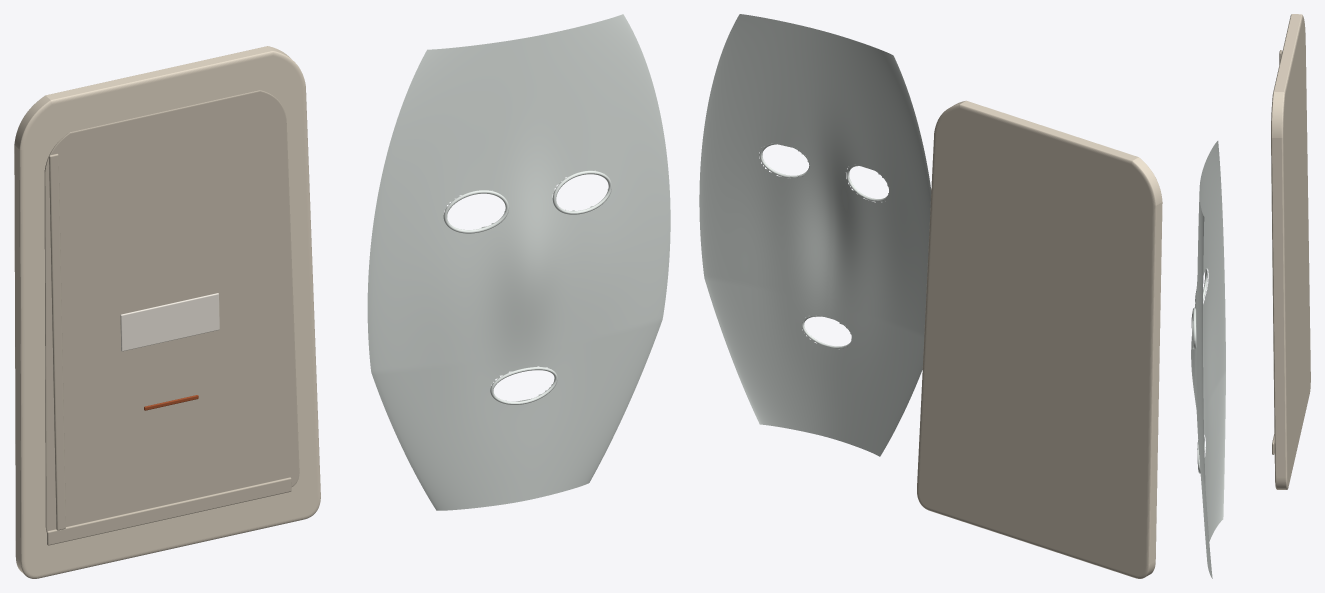
The model's file is gt-mask-full-025.glb.
3 views of the same model, side by side, from view 1: azimuth 30°, elevation 25°; view 2: azimuth 150°, elevation 25°; view 3: azimuth 270°, elevation 25° (orthographic). The views are drawn at different scales.
Parts seen in each view (by area): view 1: Full_Sculpted_Face_Sheet, Sachet_Sculpted_Front_Panel, Premium_Sachet_Shell, Sachet_Left_Fin, Configurable_Label_Plate, Sachet_Base_Gusset; view 2: Premium_Sachet_Shell, Full_Sculpted_Face_Sheet; view 3: Premium_Sachet_Shell, Full_Sculpted_Face_Sheet, Full_Eye_Rim_Right.
Part boxes in pixels (x1,y1,x2,y2): Full_Sculpted_Face_Sheet: (367, 14, 670, 510); Sachet_Sculpted_Front_Panel: (44, 90, 299, 532); Premium_Sachet_Shell: (14, 46, 320, 578); Sachet_Left_Fin: (49, 153, 65, 530); Configurable_Label_Plate: (120, 293, 219, 351); Sachet_Base_Gusset: (47, 477, 291, 545); Premium_Sachet_Shell: (917, 100, 1162, 578); Full_Sculpted_Face_Sheet: (699, 14, 931, 456); Premium_Sachet_Shell: (1271, 14, 1310, 489); Full_Sculpted_Face_Sheet: (1191, 141, 1225, 578); Full_Eye_Rim_Right: (1191, 308, 1196, 349).
Bounding box in the file's own units: 3.67 × 2.87 × 0.7991.
